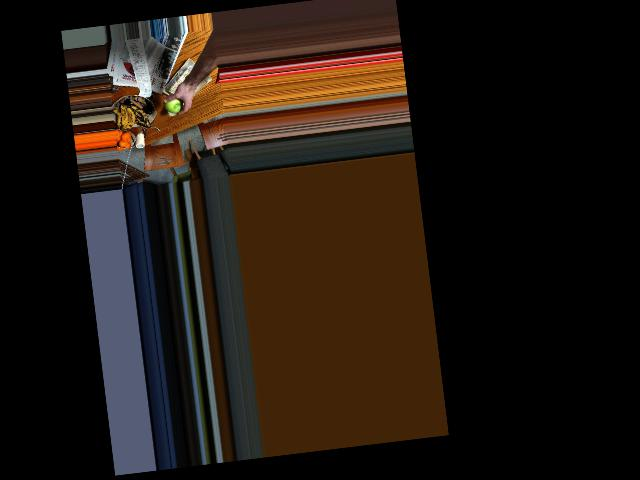apple: (162, 92, 185, 116)
